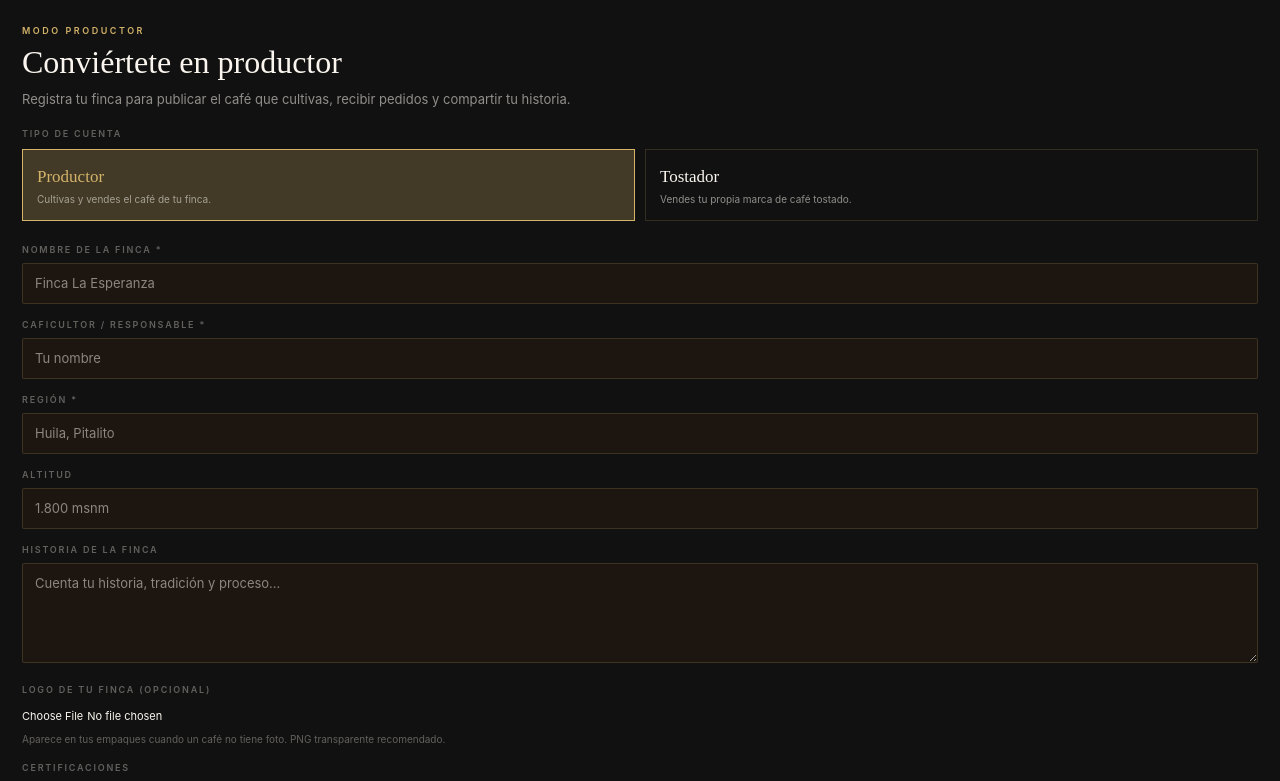
Test: SellerOnboarding › deshabilita el CTA hasta llenar los campos obligatorios
This screenshot has width=1280, height=781.
In the field with placeholder "Finca La Esperanza": x=640, y=283 [22,263,1258,304], type "Mi Finca"
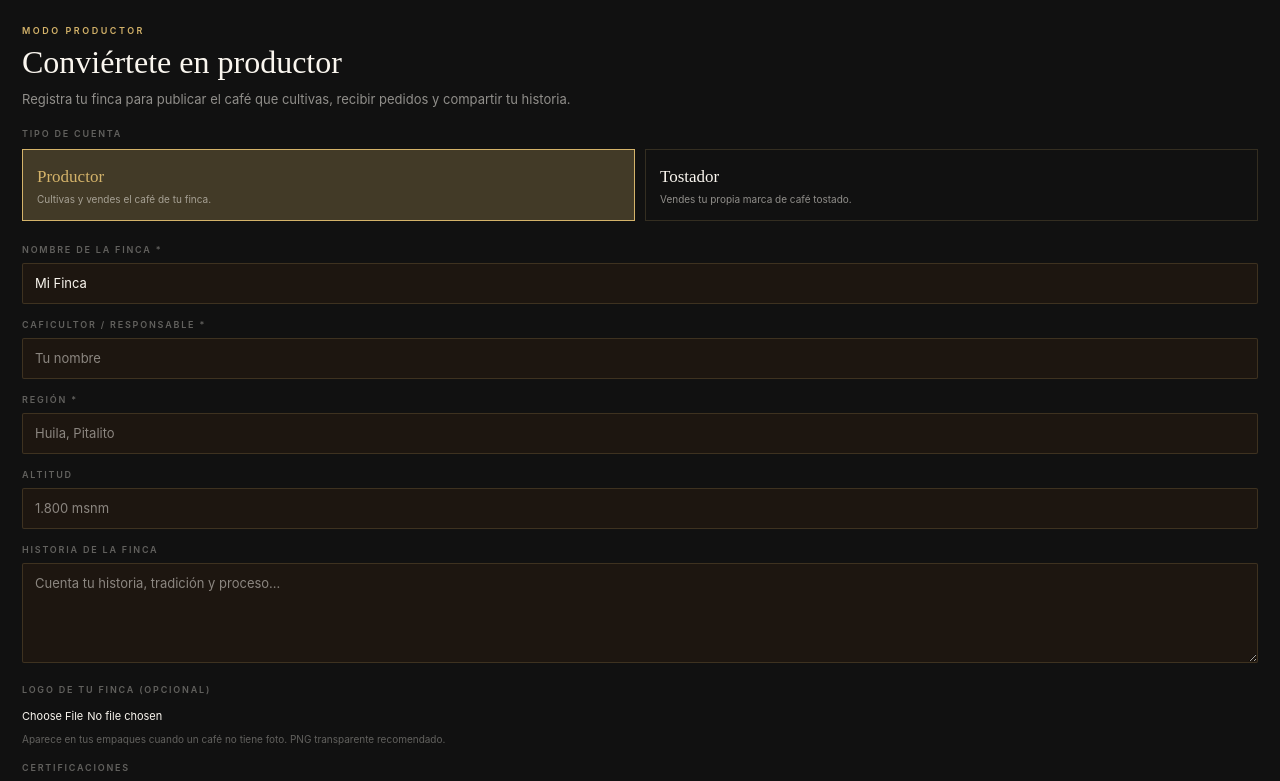
In the field with placeholder "Tu nombre": x=640, y=358 [22,338,1258,379], type "Yo"
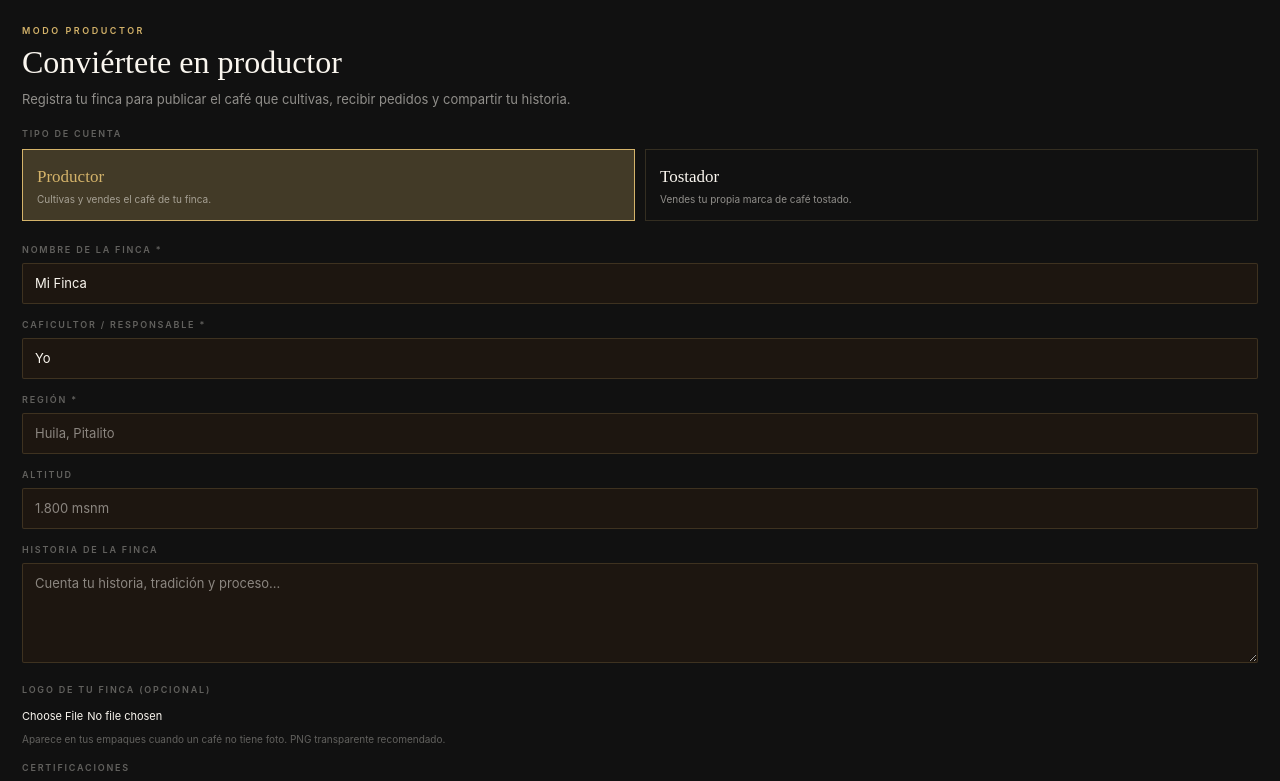
In the field with placeholder "Huila, Pitalito": x=640, y=433 [22,413,1258,454], type "Huila"
(page scrolled)
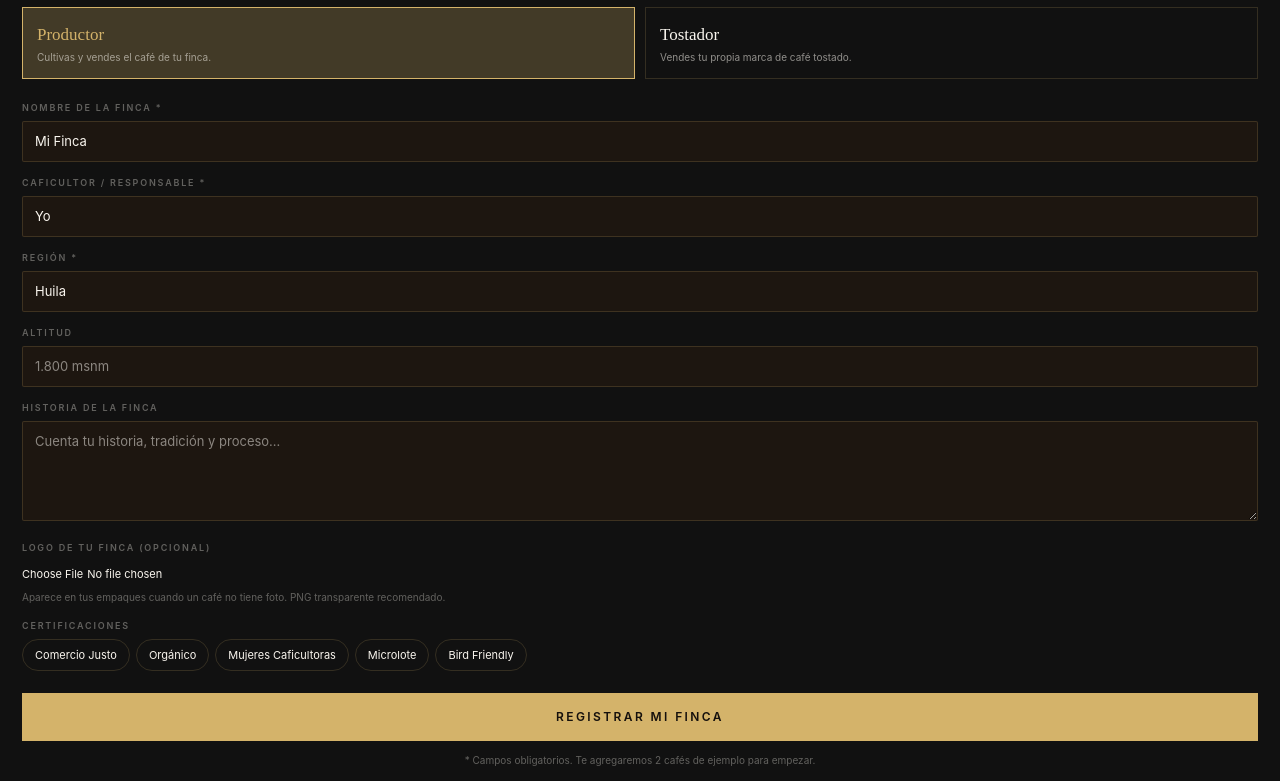
Check: the button "REGISTRAR MI FINCA" is enabled, box [22,693,1258,741]
